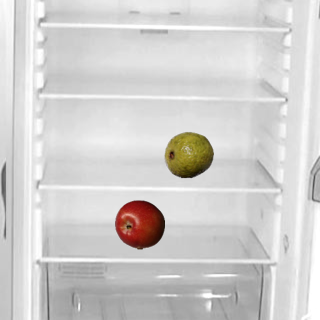Apple Braeburn: (114, 199, 164, 249)
Guava: (163, 129, 213, 179)
